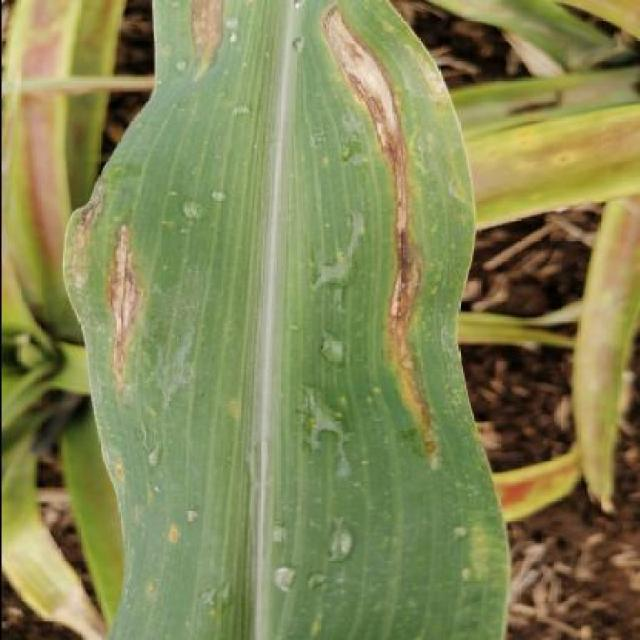Corn_Leaf_Blight: (62, 3, 483, 640)
